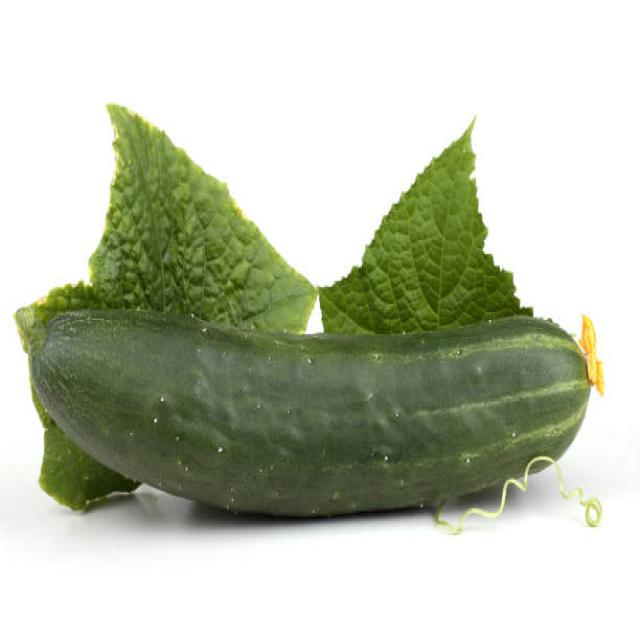cucumber: (29, 307, 592, 518)
